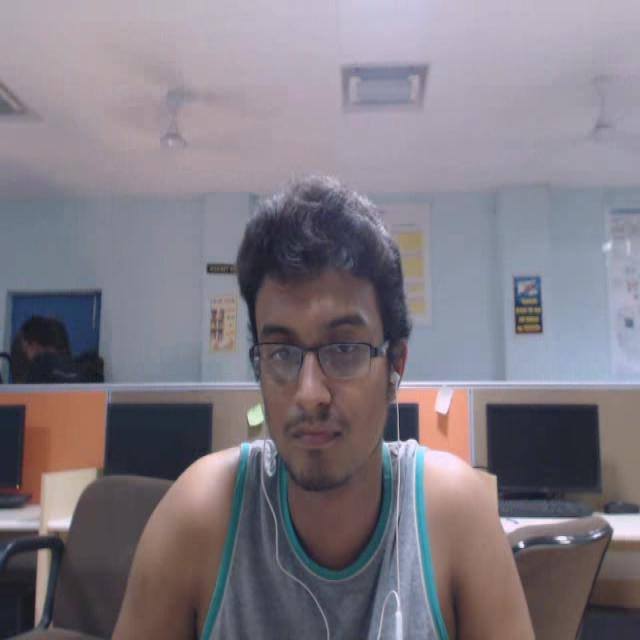Bored: (229, 150, 419, 536)
